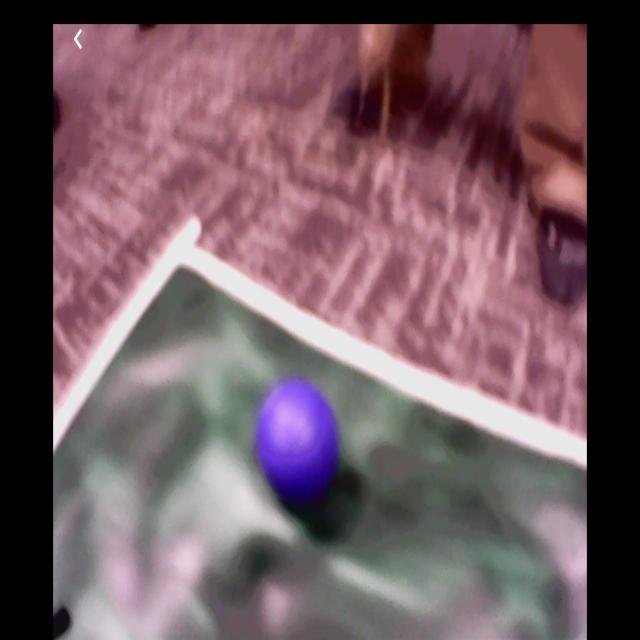ball: (258, 379, 337, 497)
